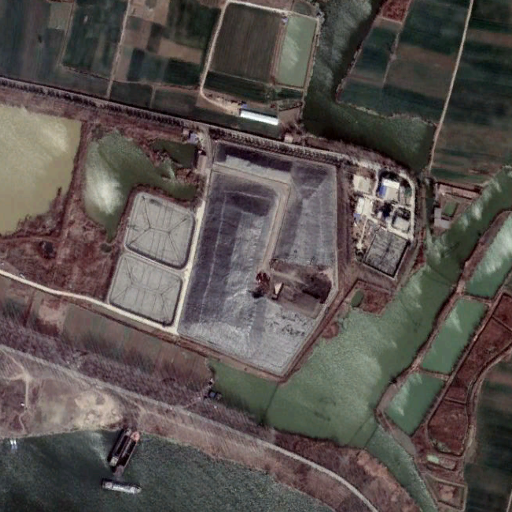lf: (184, 140, 334, 383)
